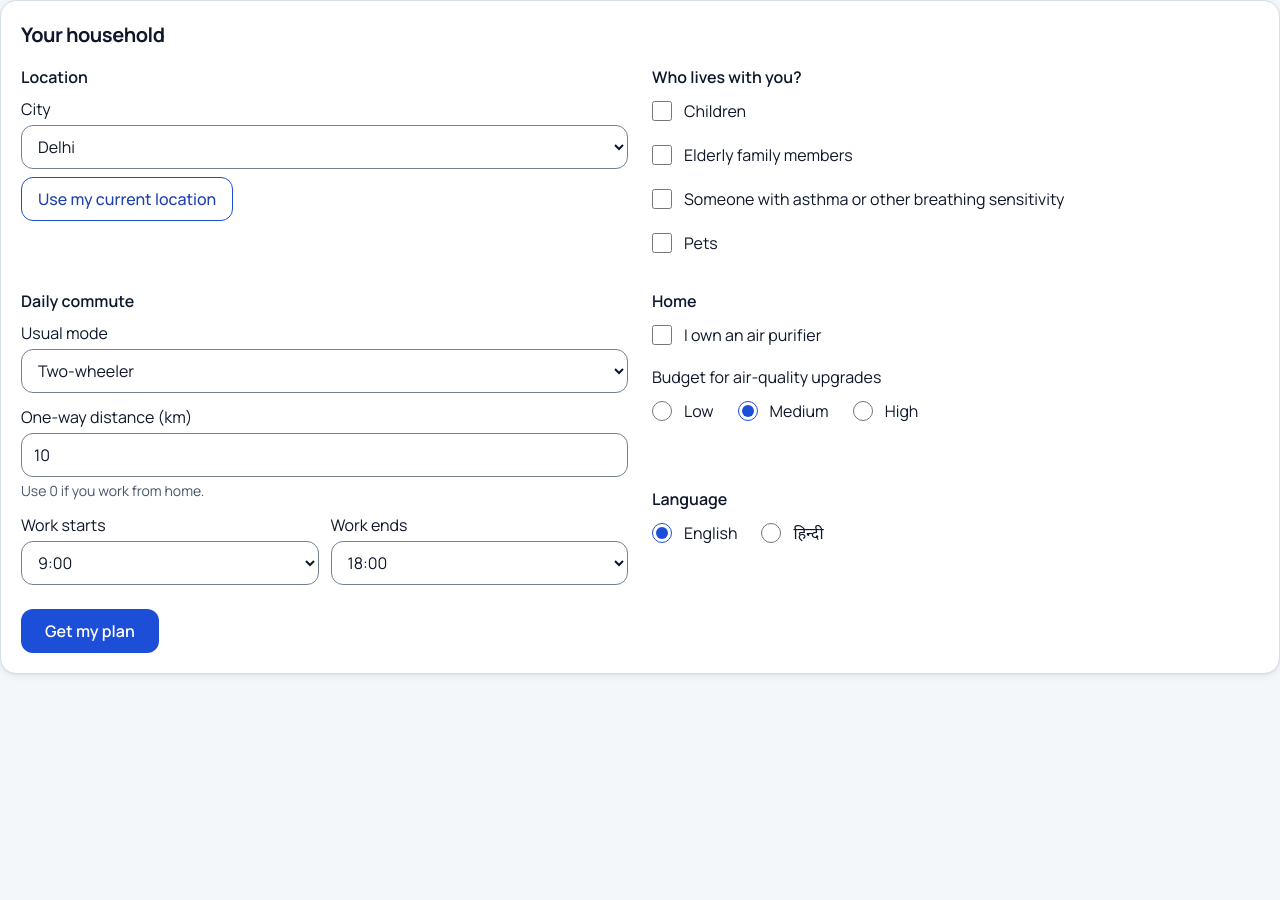
Scenario: ProfileForm › uses GPS coordinates when the user shares location
Later steps or results of the test are not shown.
Click the button "Use my current location". click: (127, 199)
box: x1=21 y1=177 x2=233 y2=221
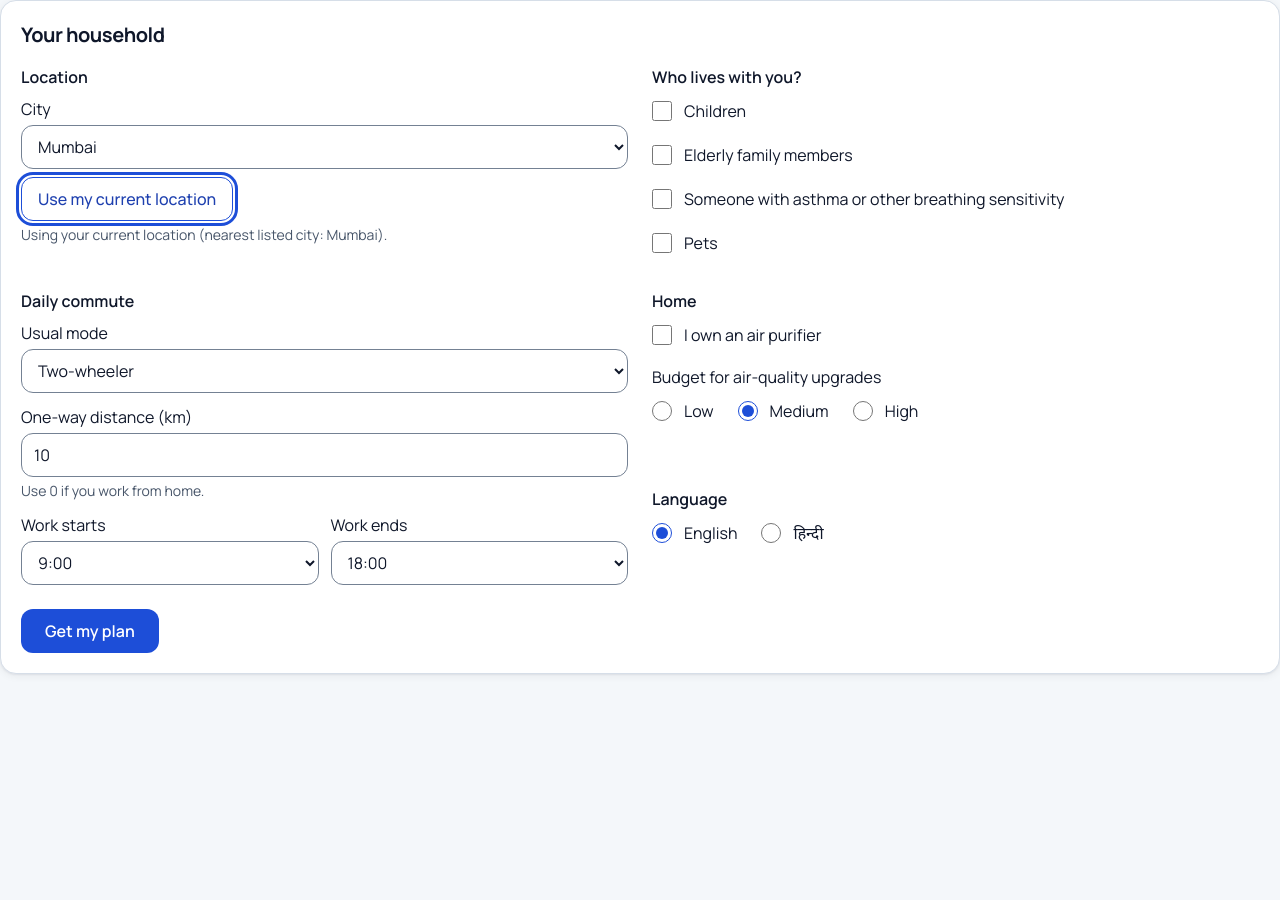
Now the text "Using your current location (nearest listed city: Mumbai)." is shown, box x1=21 y1=225 x2=387 y2=244
